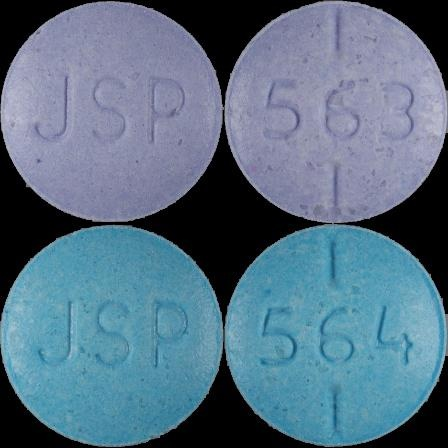63629-4245: (0, 0, 224, 224)
